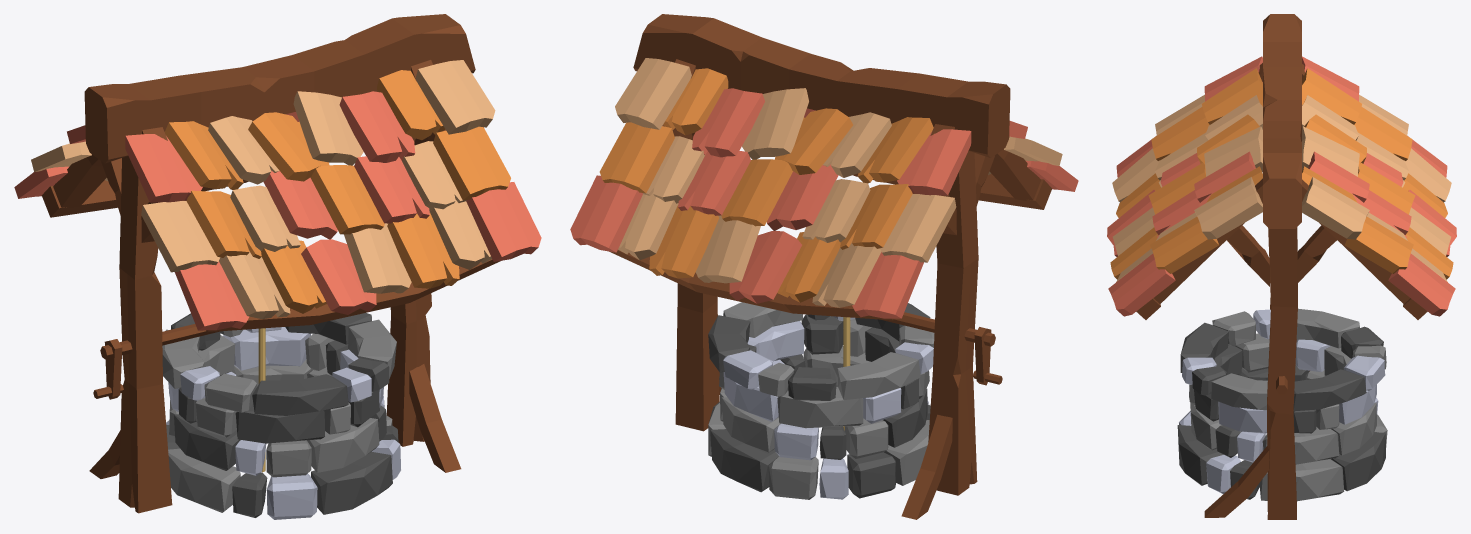
The model's file is lowpolywell.glb.
The picture shows the model from 3 angles, left to right: view 1: azimuth 30°, elevation 25°; view 2: azimuth 150°, elevation 25°; view 3: azimuth 270°, elevation 25°; orthographic projection. The views are drawn at different scales.
Parts seen in each view (by area): view 1: Cube.006, Cube.005, Cube.001, Cube.048, Cube.003, Cube.002, Cube.037, Cube.004, Cube.023, Cube.009, Cube.036, Cube.025 (+26 smaller); view 2: Cube.006, Cube.005, Cube.001, Cube.003, Cube.048, Cube.002, Cube.004, Cube.037, Cube.023, Cube.009, Cube.036, Cube.025 (+25 smaller); view 3: Cube.001, Cube.006, Cube.004, Cube.048, Cube.003, Cube.002, Cube.036, Cube.025, Cube.044, Cube.030, Cube.032, Cube.038 (+22 smaller).
Part boxes in pixels (x1,y1,x2,y2): Cube.006: (84,14,475,163); Cube.005: (118,156,172,513); Cube.001: (162,313,396,415); Cube.048: (166,415,400,519); Cube.003: (168,327,383,443); Cube.002: (169,359,386,477); Cube.037: (31,141,220,272); Cube.004: (386,137,431,446); Cube.023: (14,166,249,330); Cube.009: (41,179,501,332); Cube.036: (415,60,495,134); Cube.025: (466,182,541,261); Cube.006: (633,14,1010,157); Cube.005: (928,151,978,495); Cube.001: (708,302,934,400); Cube.003: (719,314,929,428); Cube.048: (708,386,930,499); Cube.002: (720,346,927,460); Cube.004: (675,132,719,431); Cube.037: (880,136,1062,262); Cube.023: (852,160,1078,318); Cube.009: (609,173,1052,320); Cube.036: (615,58,691,129); Cube.025: (570,175,642,252); Cube.001: (1180,308,1386,411); Cube.006: (1263,14,1301,228); Cube.004: (1267,227,1297,519); Cube.048: (1177,411,1387,501); Cube.003: (1189,333,1376,433); Cube.002: (1190,365,1378,464); Cube.036: (1194,177,1369,239); Cube.025: (1108,253,1455,316); Cube.044: (1150,216,1413,273); Cube.030: (1202,68,1361,124); Cube.032: (1204,126,1359,176); Cube.038: (1151,107,1412,160).
Bounding box in the file's own units: 3.18 × 3.47 × 2.99.
